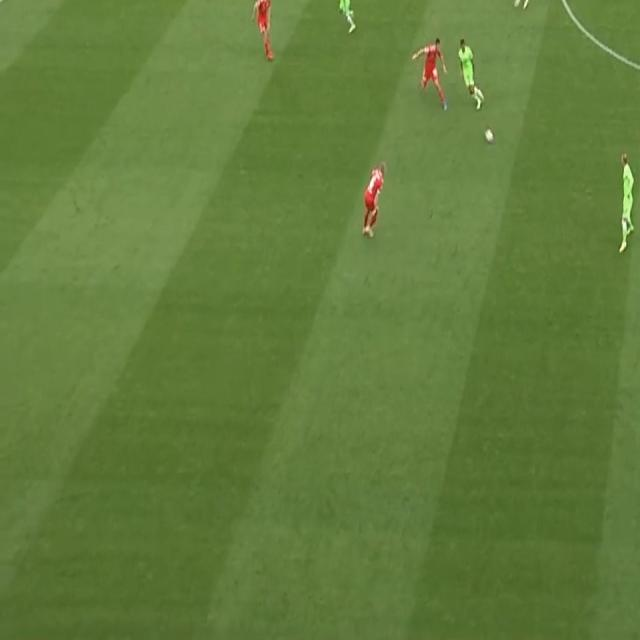ball: (485, 128, 495, 146)
